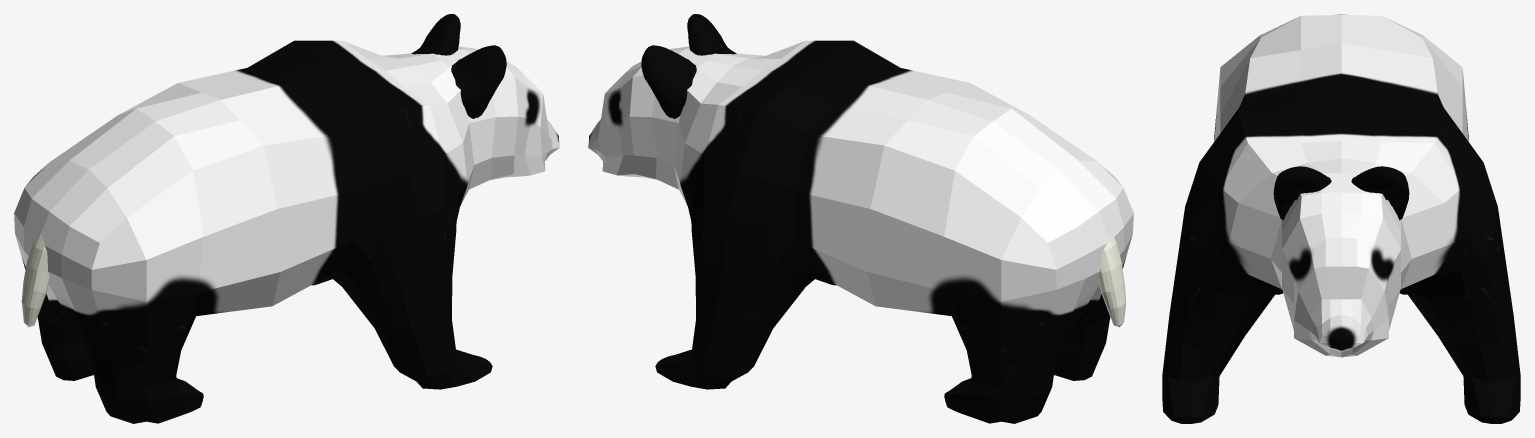
Rendered from panda_lowpoly.fbx.
The picture shows the model from 3 angles, left to right: view 1: azimuth 30°, elevation 25°; view 2: azimuth 150°, elevation 25°; view 3: azimuth 270°, elevation 25°; orthographic projection. The views are drawn at different scales.
Parts seen in each view (by area): view 1: Body, ears, tail; view 2: Body, ears, tail; view 3: Body, ears.
Part boxes in pixels (box(x1,y1,x2,y2)): Body: box(14, 40, 559, 423); ears: box(411, 14, 506, 118); tail: box(21, 234, 49, 327); Body: box(588, 40, 1133, 423); ears: box(641, 14, 736, 118); tail: box(1098, 233, 1126, 327); Body: box(1162, 14, 1520, 423); ears: box(1273, 166, 1409, 220).
Size of the model in its own units: 532 by 261 by 291.
3 materials, 1 textured.
